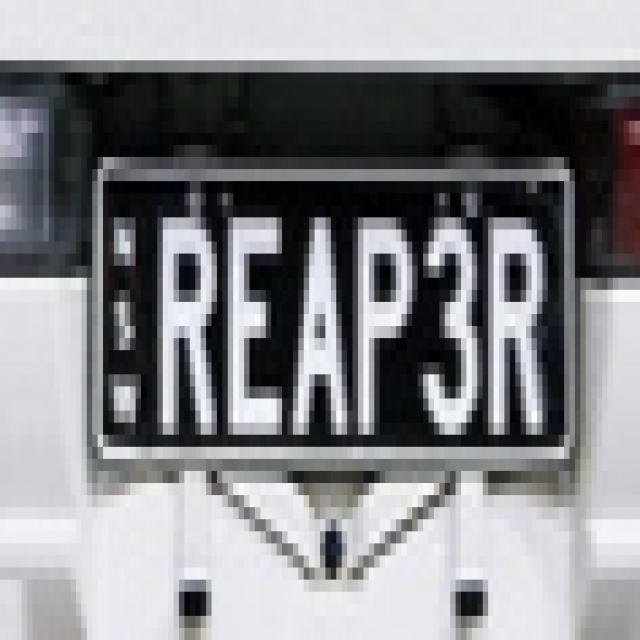3: (420, 190, 486, 440)
A: (290, 195, 354, 462)
E: (224, 185, 286, 459)
P: (354, 196, 416, 444)
R: (485, 189, 555, 450), (154, 186, 222, 448)
